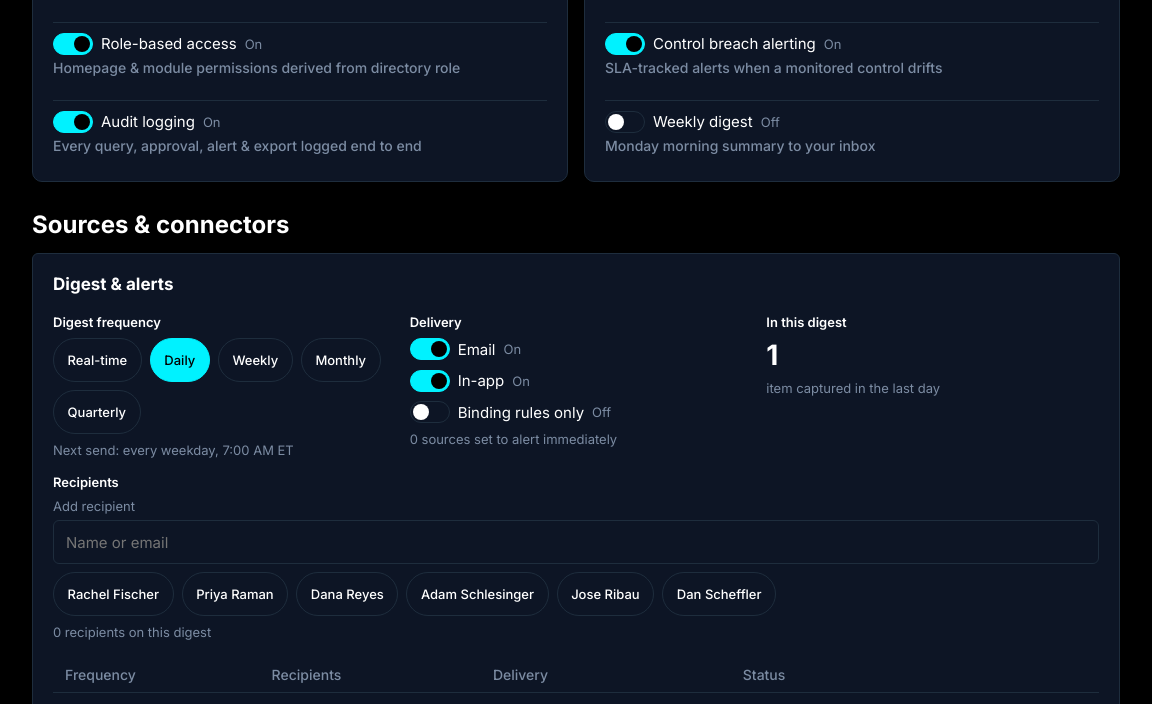
Test: Settings · Toggles — digest & alerts card (base 3345–3387) › Real-time ports the base freqDays `||1` quirk verbatim: a 1-day window, not "everything since the sweep" (base 3349)
(page scrolled)
Click the button "Real-time". click: (97, 360)
box: [53,338,142,382]
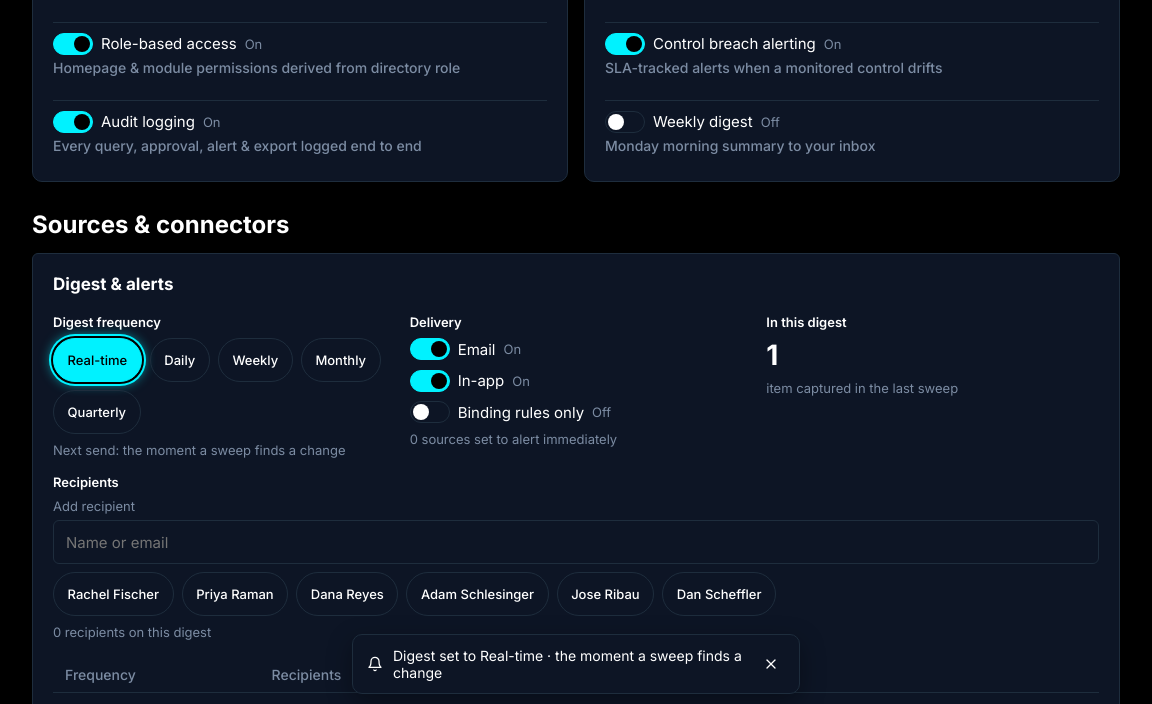
Check: the text "item captured in the last sweep" is shown, box [766,380,958,396]
Check: the text "Next send: the moment a sweep finds a change" is shown, box [53,442,386,458]
